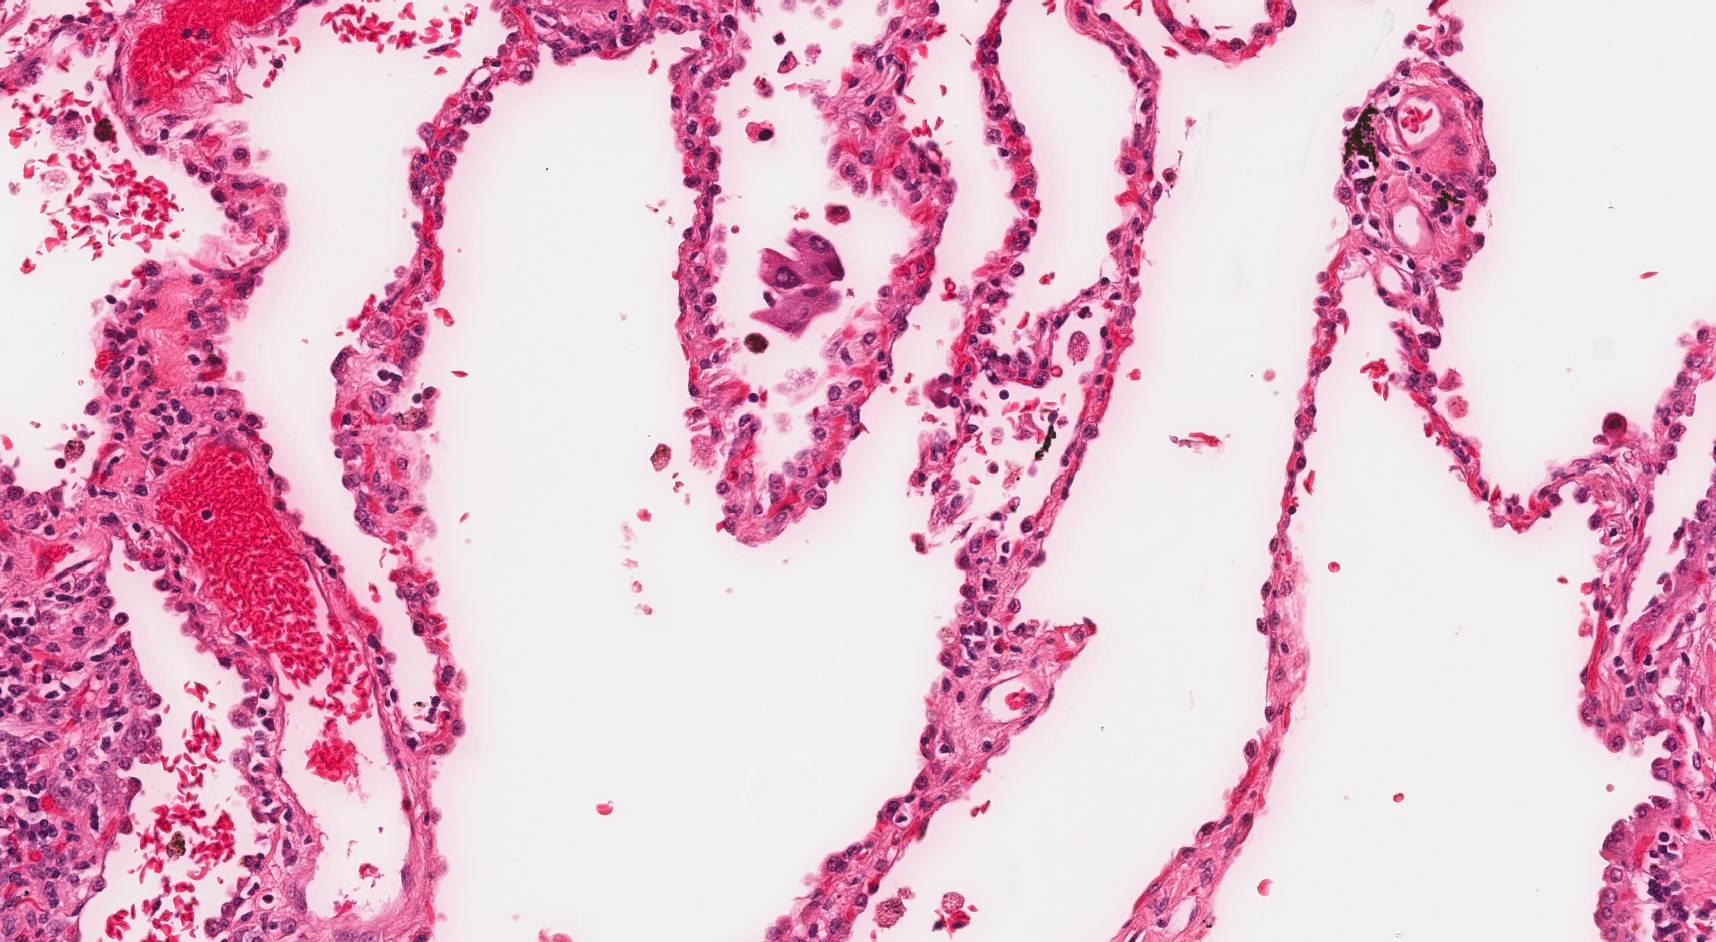stas: (751, 231, 842, 332)
